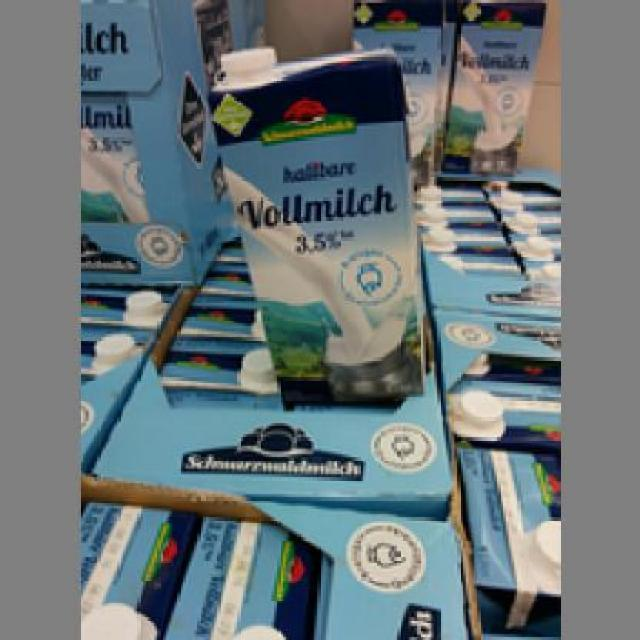Milk: (208, 46, 432, 406), (448, 0, 532, 177)
